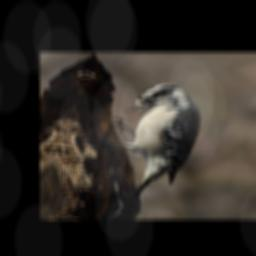Woodpecker: (85, 81, 216, 202)
